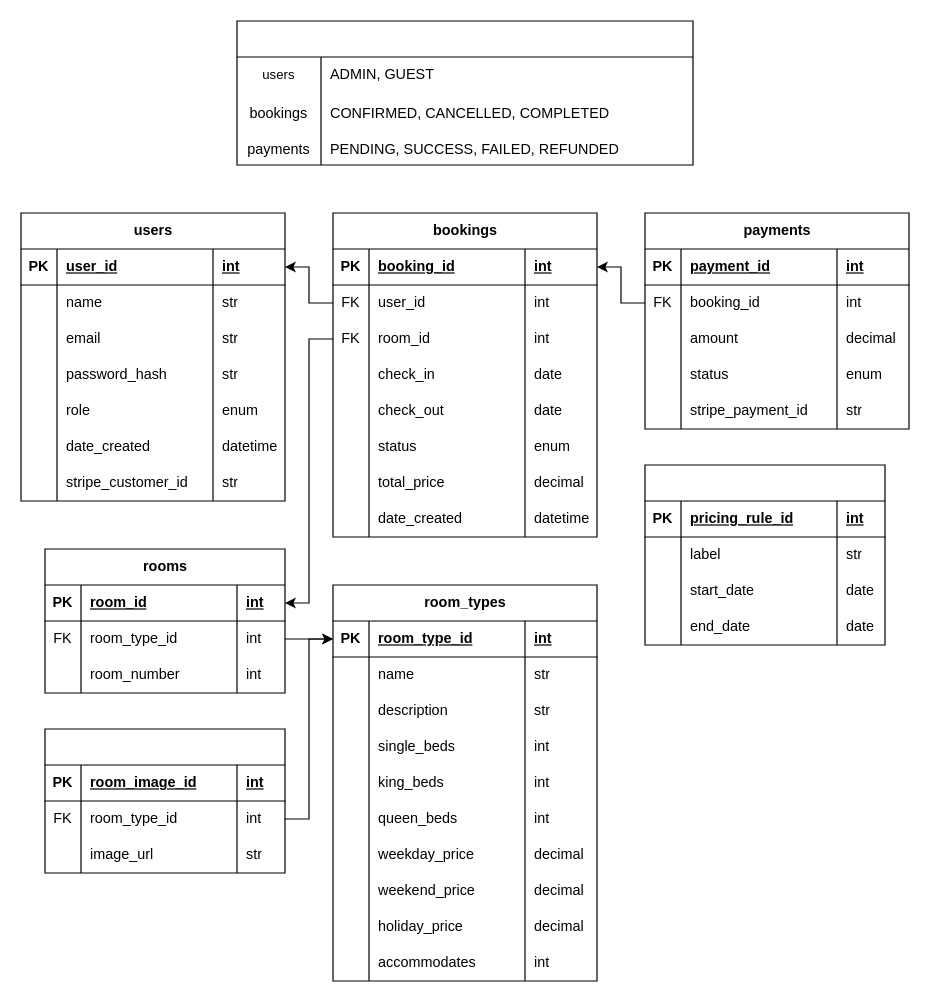
The diagram is 930 pixels wide and 1002 high, and some of its shapes have lost their labels. Each missing label, with the box of its shape:
enum_keys: (236, 20, 693, 165)
pricing_rules: (644, 464, 885, 645)
room_images: (44, 728, 285, 873)
